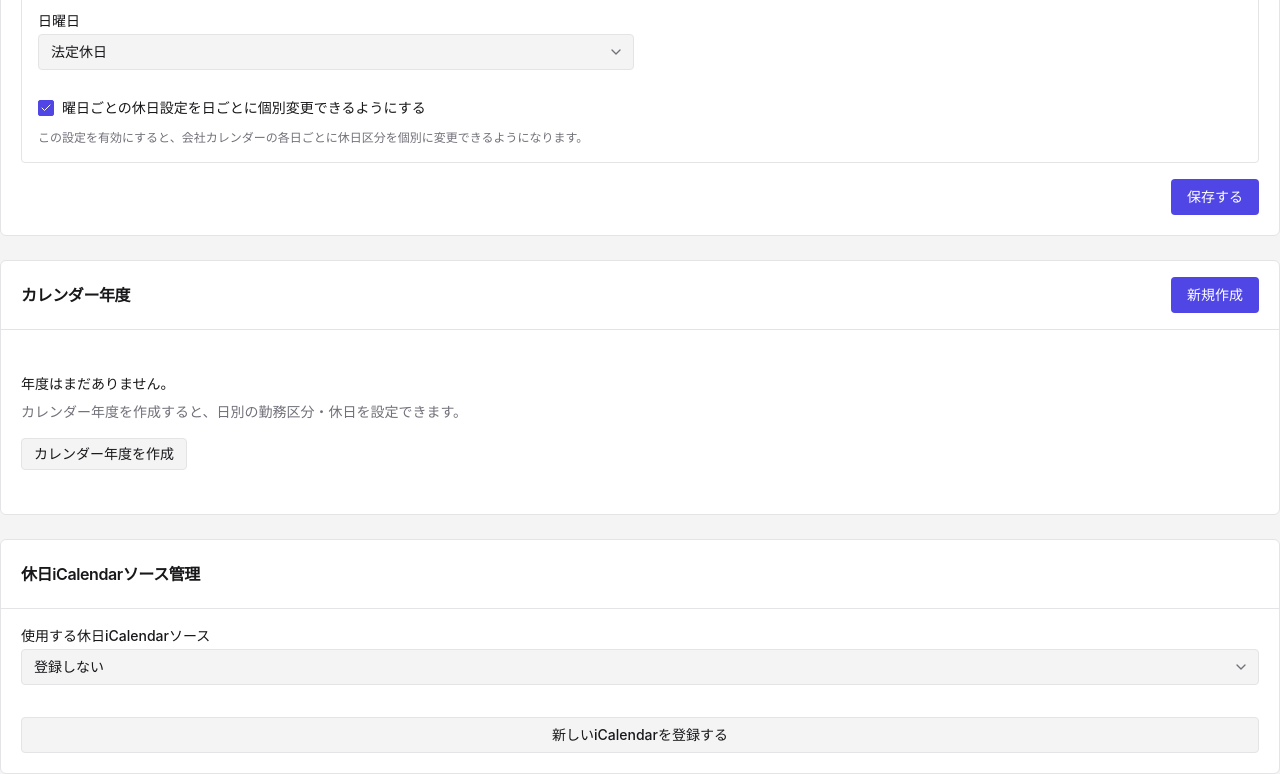
Test case: WorkCalendarDetailPage › registers a brand-new source inline and auto-selects it
This screenshot has width=1280, height=774.
(page scrolled)
Expected: the dropdown labelled "使用する休日iCalendarソース" is shown, [21, 649, 1259, 685]
Click the button "新しいiCalendarを登録する".
click(640, 735)  # box [21, 717, 1259, 753]
(page scrolled)
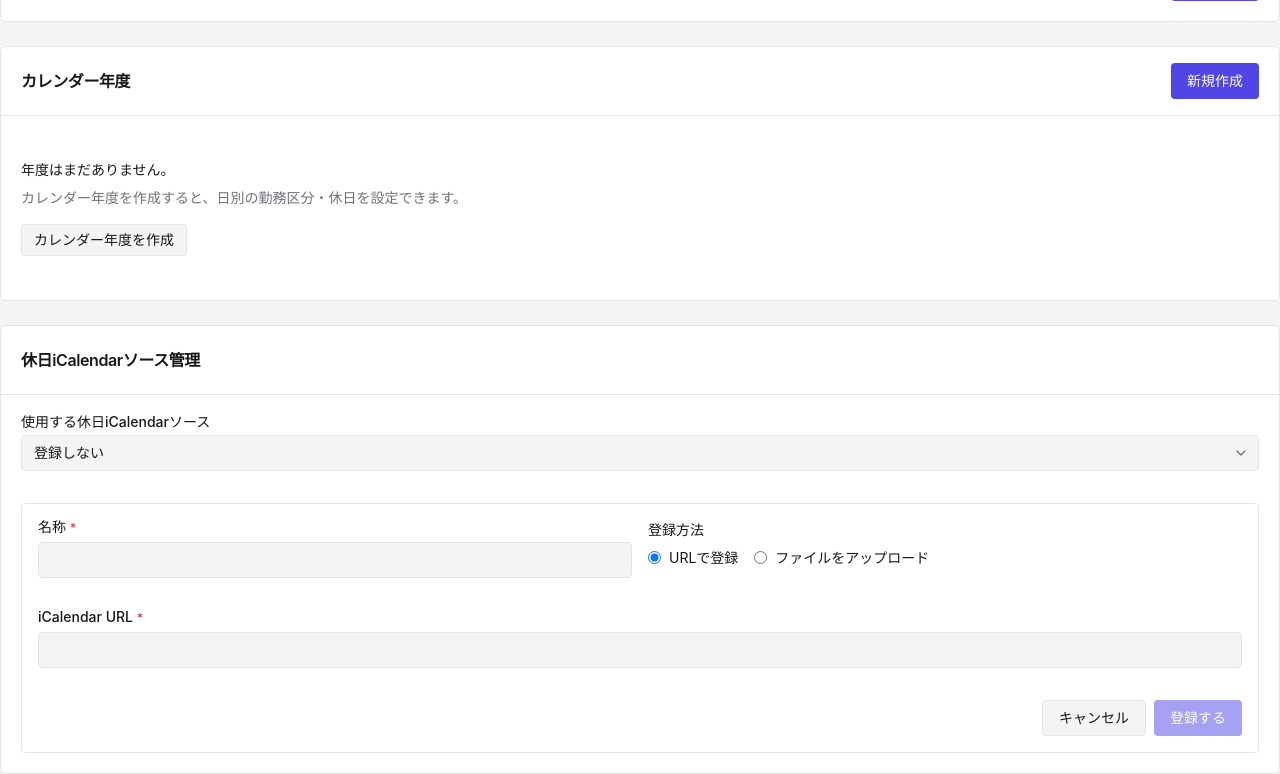
Type "内閣府祝日カレンダー" into the field labelled "名称".
click(335, 560); type("内閣府祝日カレンダー")  # box [38, 542, 632, 578]
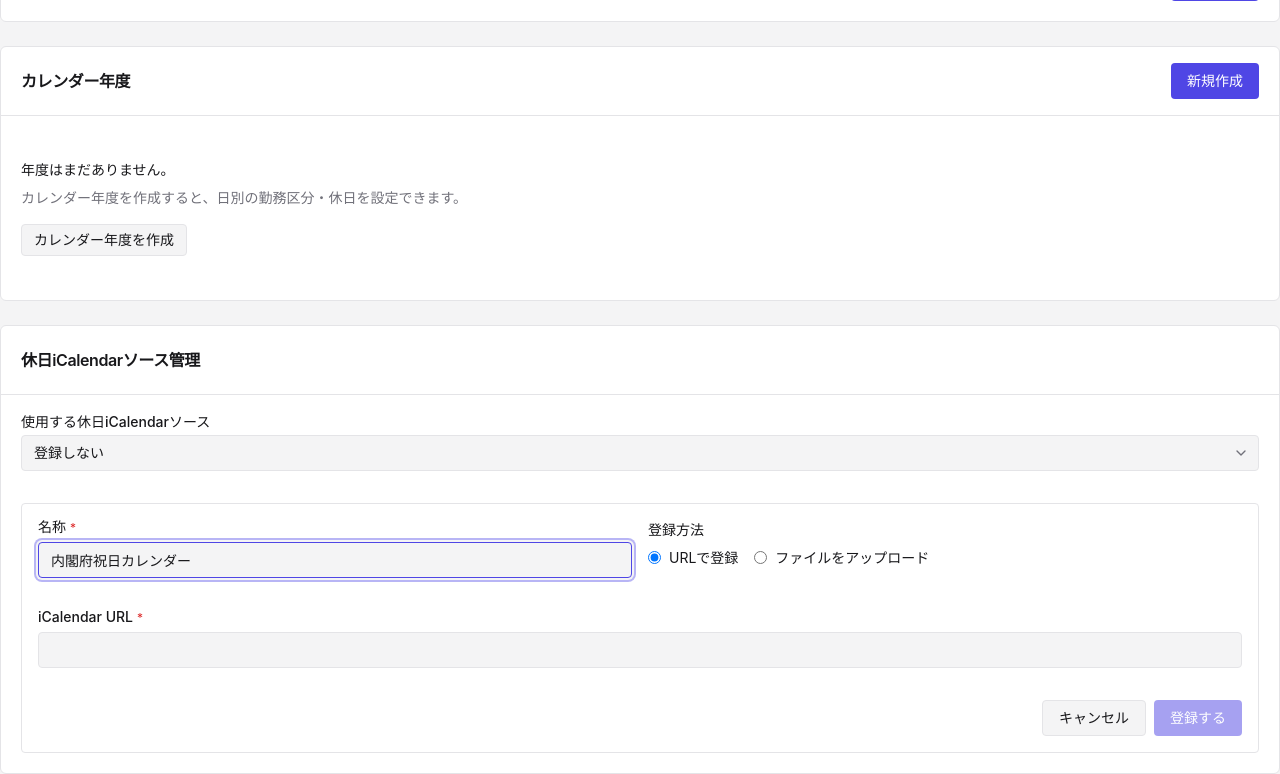
Type "https://example.com/holidays.ics" into the field labelled "iCalendar URL".
click(640, 650); type("https://example.com/holidays.ics")  # box [38, 632, 1242, 668]
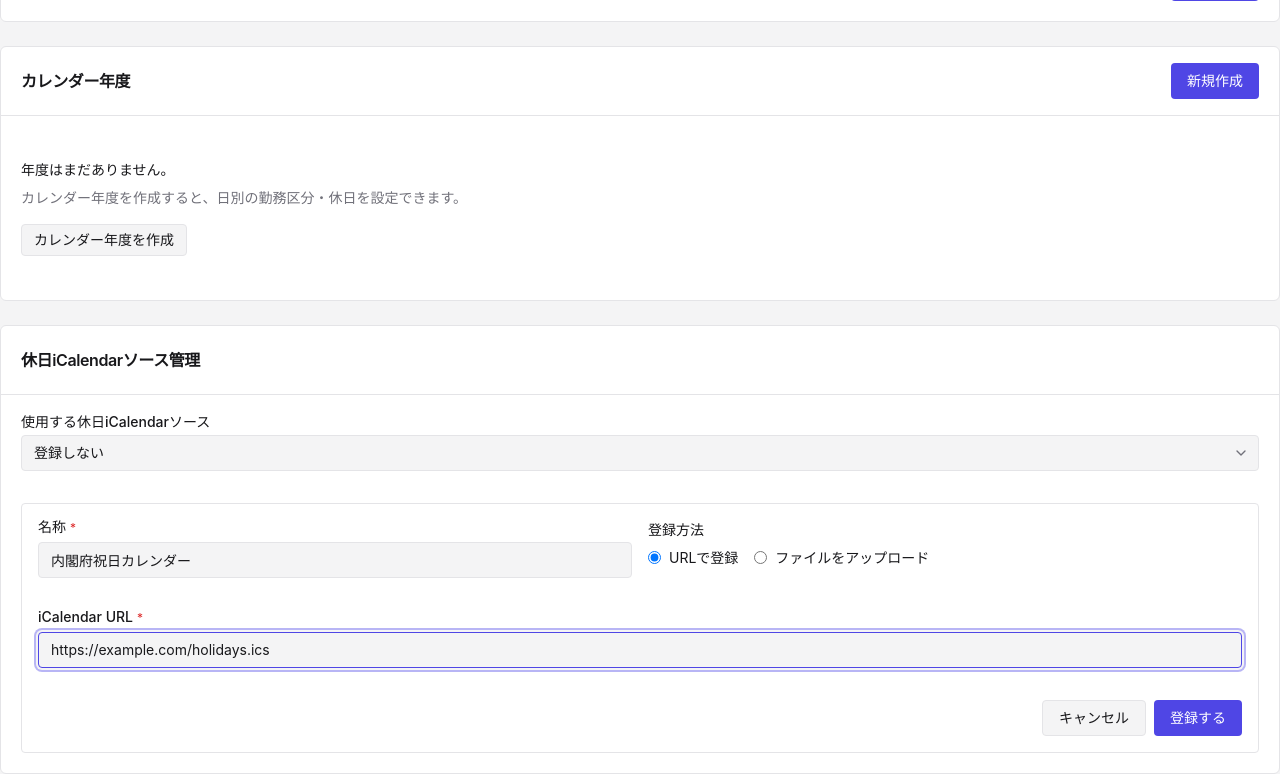
Click the button "登録する".
click(1198, 718)  # box [1154, 700, 1242, 736]
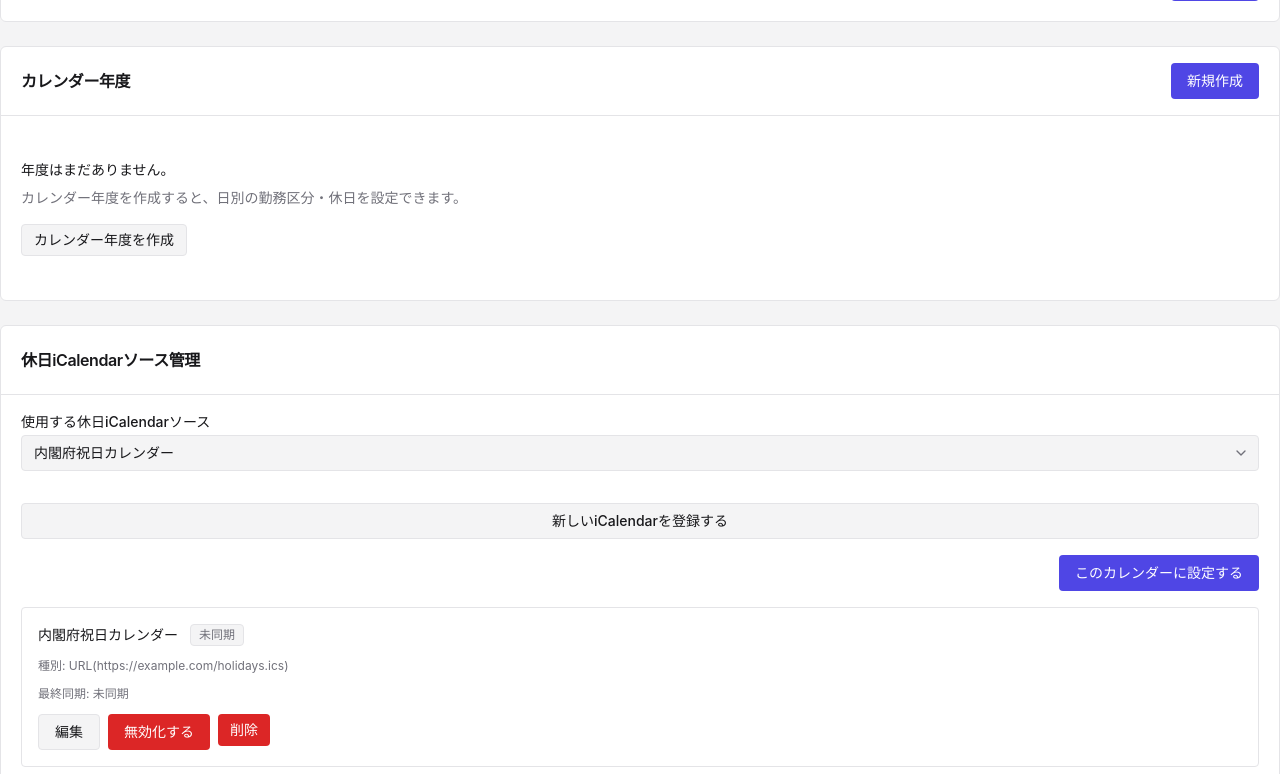
Now the dropdown labelled "使用する休日iCalendarソース" shows "内閣府祝日カレンダー", box [21, 435, 1259, 471]
